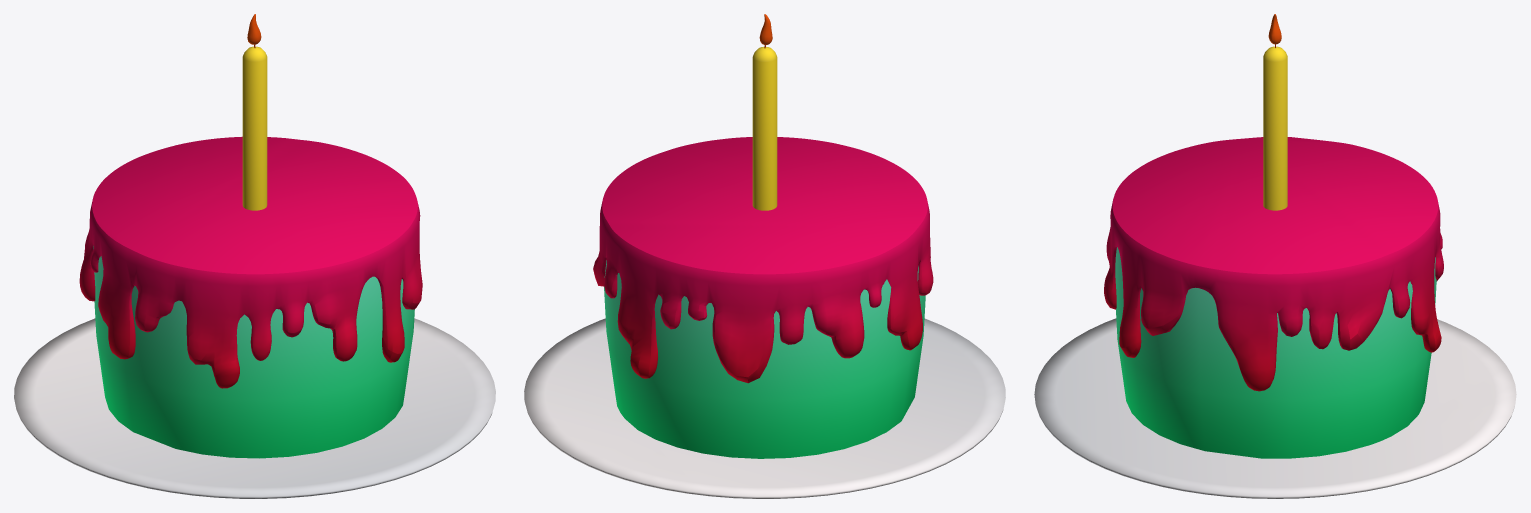
File: Cake.fbx
3 views of the same model, side by side, from view 1: azimuth 30°, elevation 25°; view 2: azimuth 150°, elevation 25°; view 3: azimuth 270°, elevation 25° (orthographic).
Parts seen in each view (by area): view 1: Topping.026; view 2: Topping.026; view 3: Topping.026.
Boxes of the visible parts, x1,y1,x2,y2 form: Topping.026: (14, 14, 495, 498); Topping.026: (524, 14, 1005, 498); Topping.026: (1034, 14, 1516, 498).
Size of the model in its own units: 42.93 by 38.24 by 42.93.
Materials: 2 (2 with a texture image).
